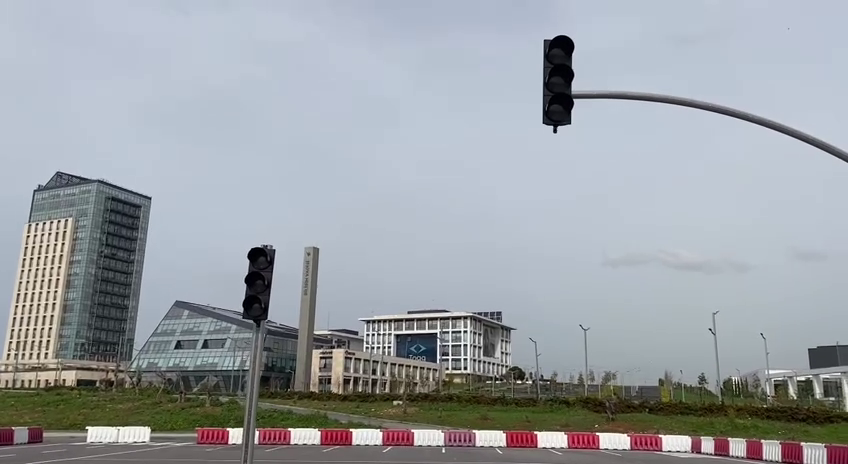trafficLight: (536, 33, 578, 136), (238, 240, 280, 329)
